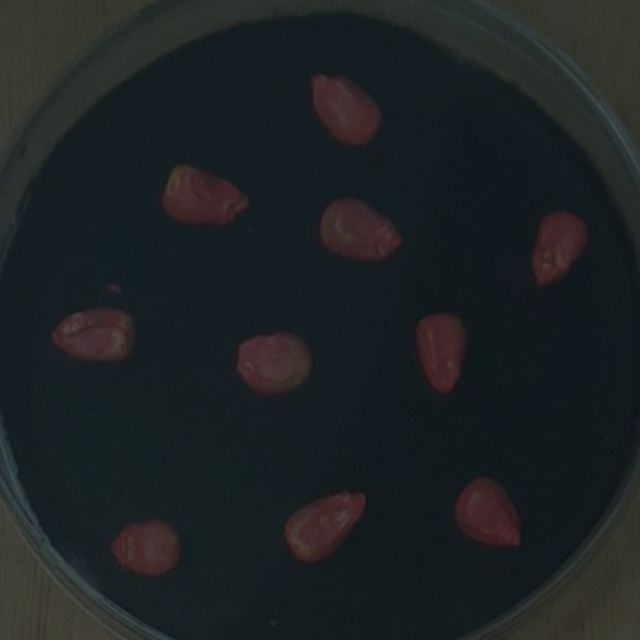Zea mays: (274, 483, 374, 573), (300, 63, 391, 154), (153, 154, 257, 233), (311, 189, 411, 271), (44, 297, 144, 371), (447, 468, 529, 557), (228, 323, 320, 401), (523, 201, 596, 295), (406, 306, 475, 403), (102, 511, 188, 587)
